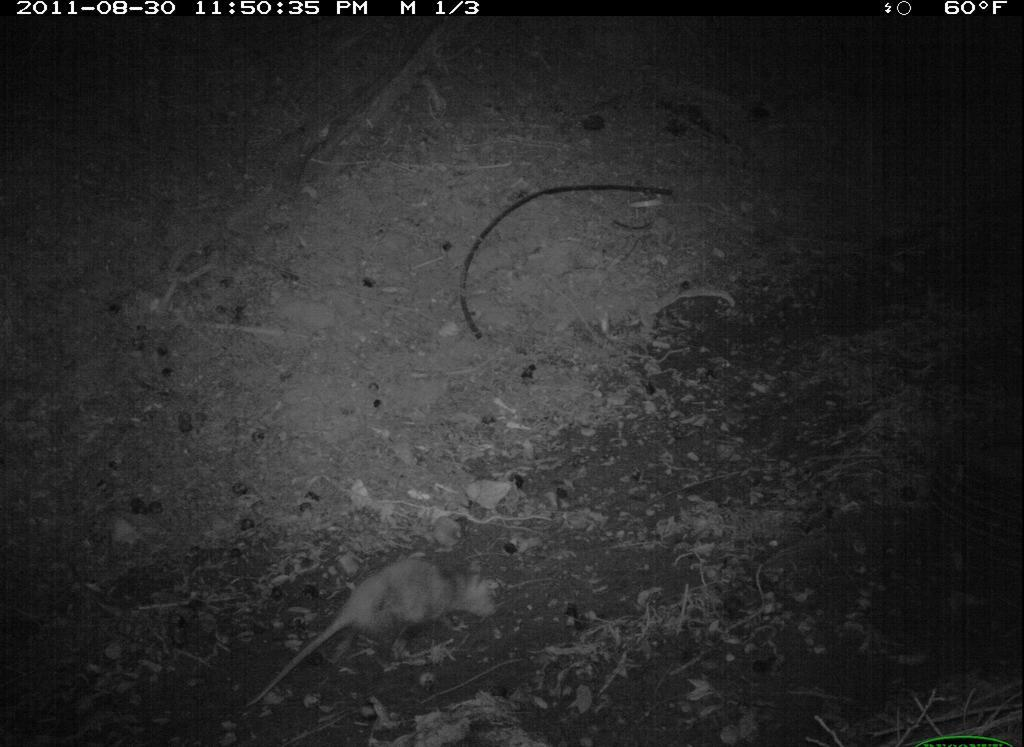opossum: (245, 553, 507, 711)
